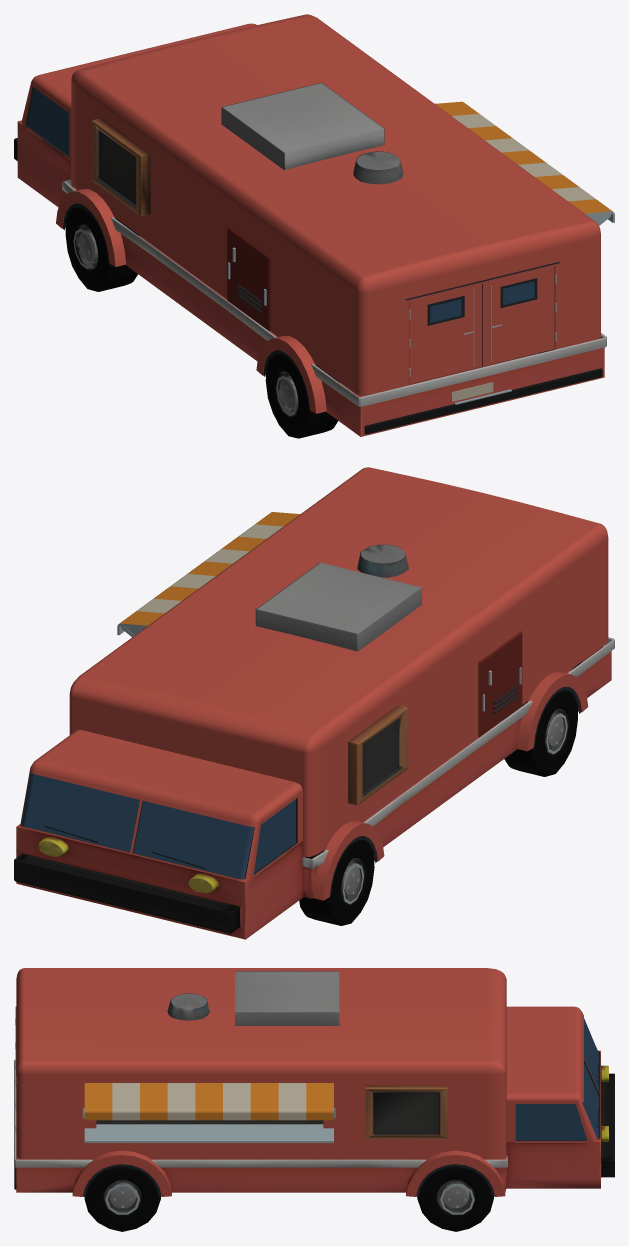
The model's file is food-truck-crafted.glb.
3 renders of one model, top to bottom at view 1: azimuth 30°, elevation 25°; view 2: azimuth 150°, elevation 25°; view 3: azimuth 270°, elevation 25°, orthographic. The views are drawn at different scales.
Parts seen in each view (by area): view 1: tripo_node_d1e9b696-7db8-4430-9c2a-7927ec78d428; view 2: tripo_node_d1e9b696-7db8-4430-9c2a-7927ec78d428; view 3: tripo_node_d1e9b696-7db8-4430-9c2a-7927ec78d428.
Boxes of the visible parts, x1=… form: tripo_node_d1e9b696-7db8-4430-9c2a-7927ec78d428: x1=14, y1=14, x2=614, y2=438; tripo_node_d1e9b696-7db8-4430-9c2a-7927ec78d428: x1=14, y1=467, x2=614, y2=939; tripo_node_d1e9b696-7db8-4430-9c2a-7927ec78d428: x1=14, y1=968, x2=614, y2=1231.
Bounding box in the file's own units: 0.4896 × 0.3323 × 1.
Materials: 1 (1 with a texture image).
